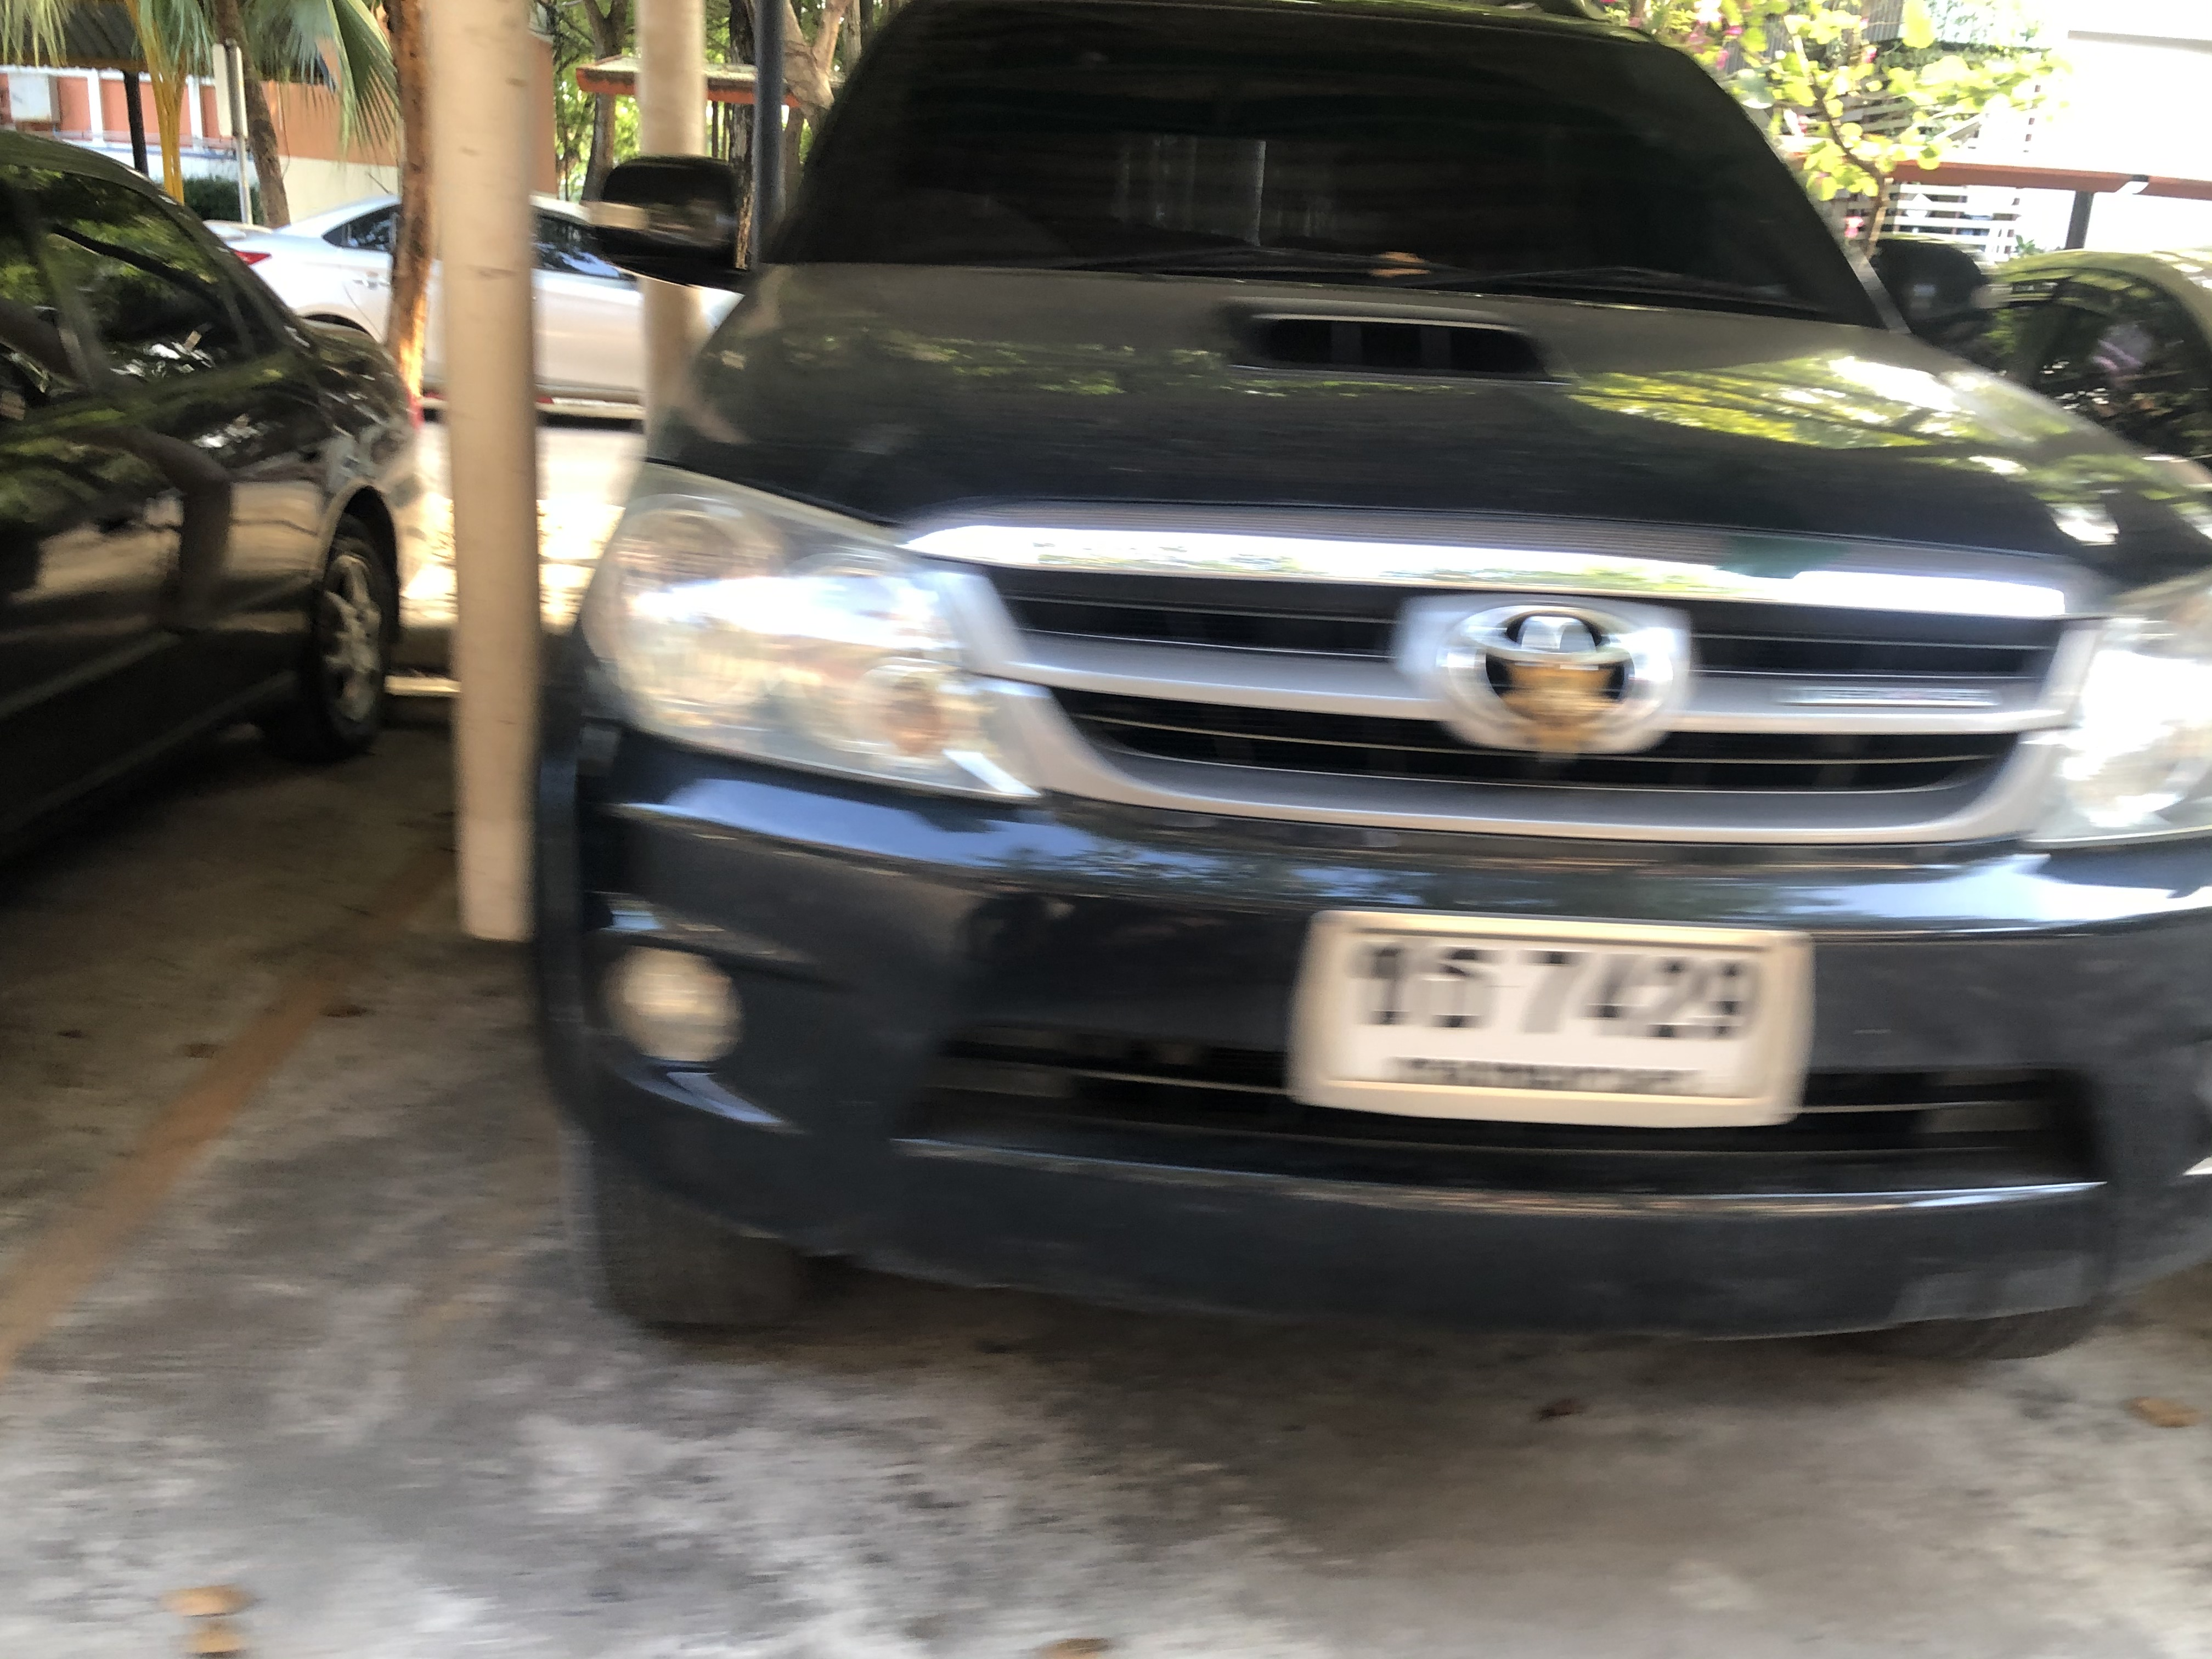in: (1334, 932, 1768, 1098)
out: (1284, 899, 1822, 1134)
